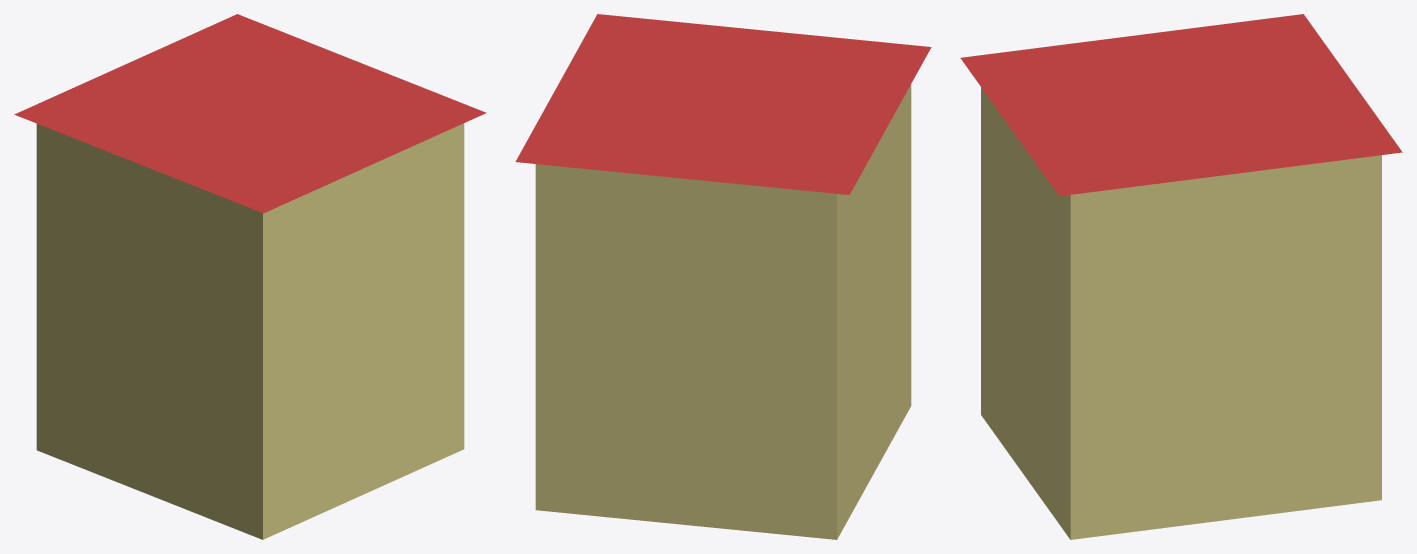
3 views of the same model, side by side, from view 1: azimuth 30°, elevation 25°; view 2: azimuth 150°, elevation 25°; view 3: azimuth 270°, elevation 25° (orthographic). The views are drawn at different scales.
Size of the model in its own units: 6.42 by 6.59 by 5.79.
